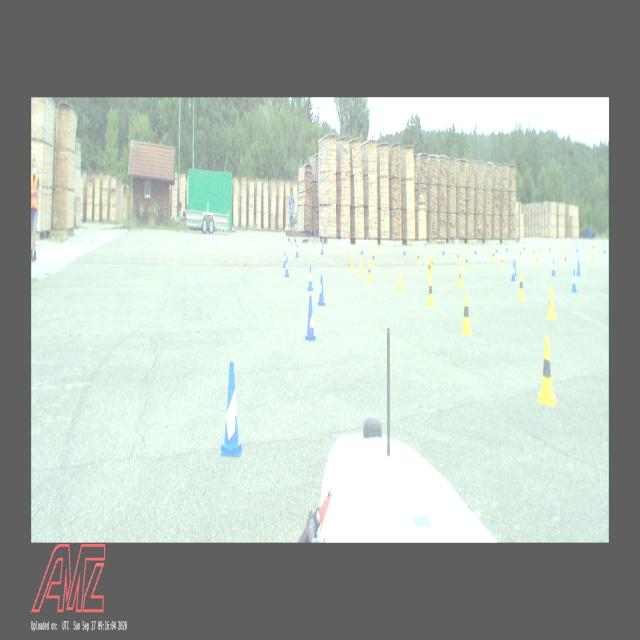blue_cone: (220, 362, 243, 456), (306, 296, 316, 341), (318, 275, 325, 305), (308, 266, 314, 291), (571, 269, 577, 293), (285, 257, 289, 277), (511, 262, 515, 281), (552, 258, 556, 276), (576, 260, 580, 276), (295, 244, 299, 258), (283, 252, 286, 268), (320, 242, 324, 254), (442, 242, 445, 255), (403, 242, 406, 255), (361, 242, 364, 254), (514, 258, 516, 276), (474, 243, 477, 254), (506, 242, 508, 252), (496, 243, 498, 253), (549, 242, 551, 252), (523, 242, 525, 250), (604, 245, 606, 253), (576, 244, 578, 252)
yellow_cone: (537, 336, 557, 406), (461, 294, 472, 334), (546, 284, 556, 320), (427, 276, 435, 306), (518, 273, 525, 300), (398, 268, 403, 292), (458, 266, 463, 288), (367, 261, 372, 281), (359, 256, 363, 274), (428, 259, 432, 277), (416, 250, 421, 264), (372, 250, 376, 266), (350, 252, 354, 268), (465, 254, 469, 268), (500, 254, 504, 268), (534, 253, 538, 267), (564, 254, 568, 266), (492, 250, 496, 262), (431, 256, 434, 272), (591, 252, 594, 266), (456, 250, 459, 263), (532, 246, 534, 258), (520, 248, 522, 260), (540, 245, 542, 256), (561, 244, 563, 254), (547, 244, 549, 254)
